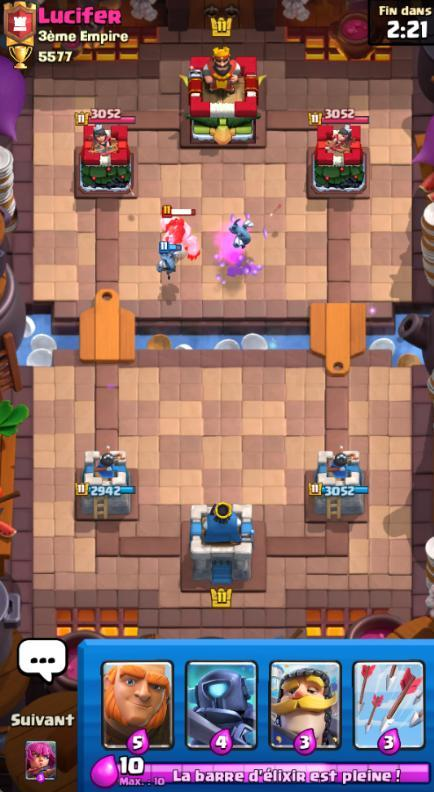enemy_ice_golem: (154, 208, 204, 266)
player_minions: (225, 212, 255, 250), (152, 241, 181, 279)
